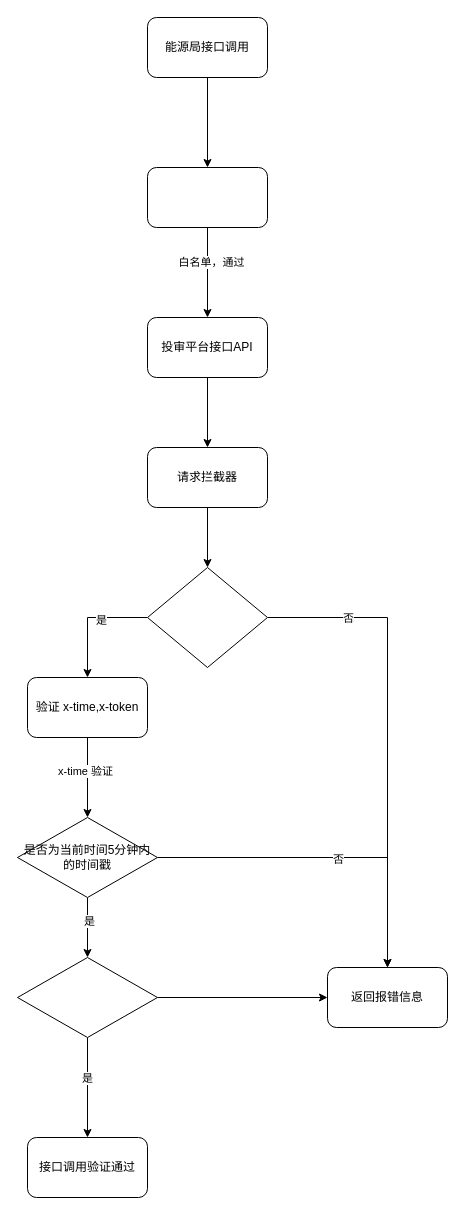
The diagram is 465 pixels wide and 1215 high, and some of its shapes have lost their labels. The shapes that lost their labels are listed below. From the top down, each one's centre as x and y in pixels, then its label:
At point 207,197: "省平台用户登陆权限验证".
At point 207,617: "是否包含请求头参数 x-time, x-token".
At point 87,997: "和已配置提供的token是否一致".
